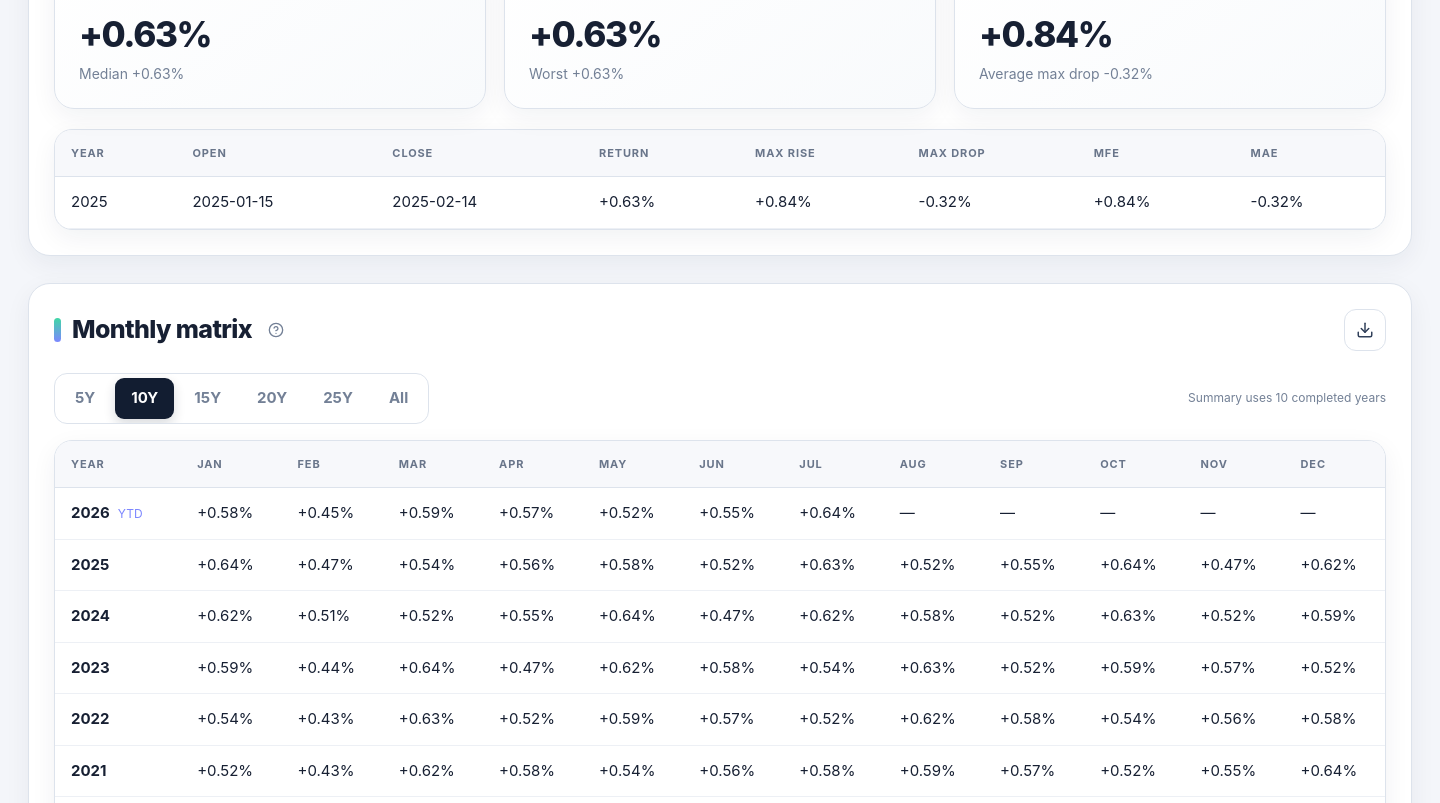
SeasonalityExplorer interactions › changes the monthly matrix range without requesting new provider data
(page scrolled)
Step 1. Click the button "5Y" → (85, 398), box [59, 378, 111, 418]
(page scrolled)
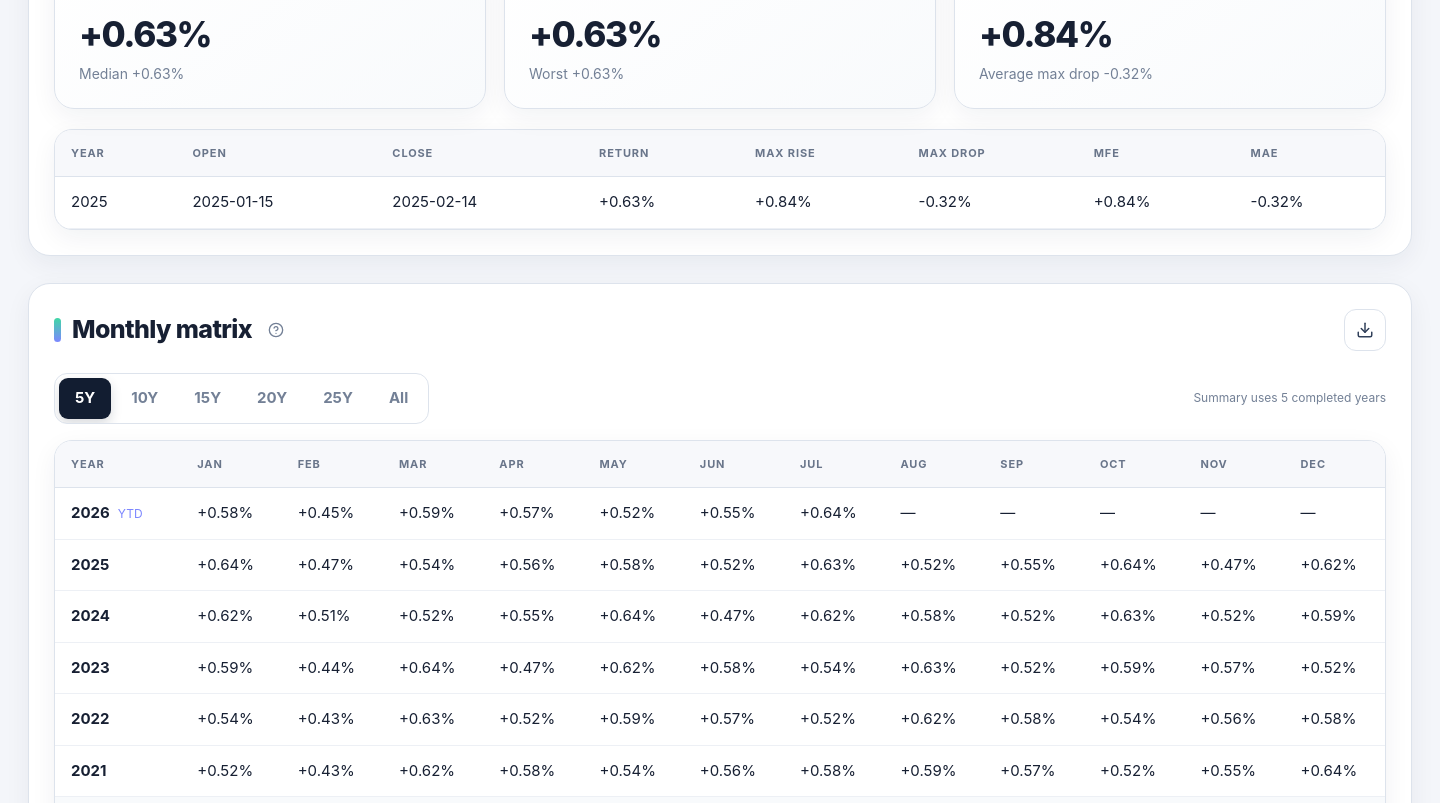
Now the text "Summary uses 5 completed years" is shown, box [1193, 390, 1386, 406]
